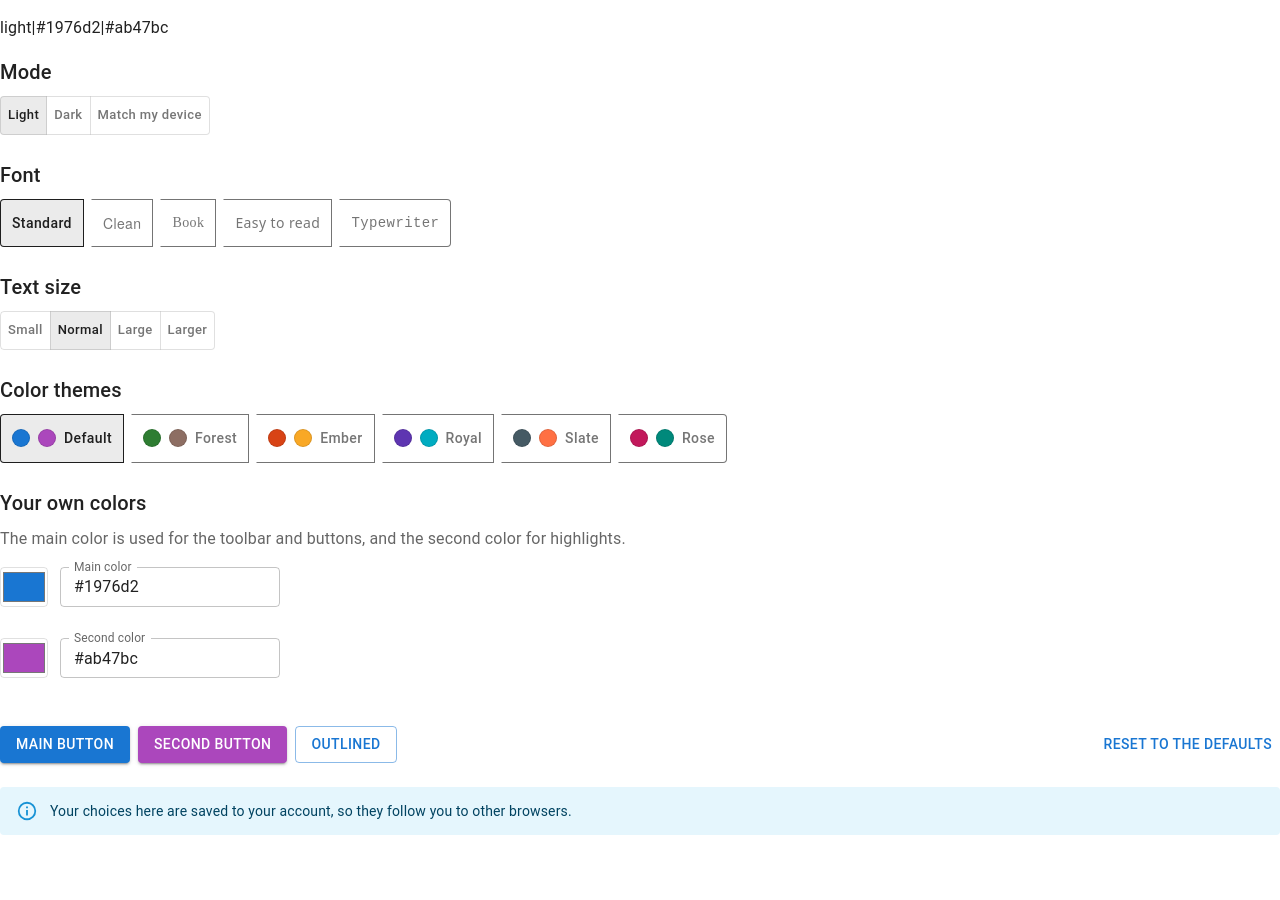
Scenario: saving to the account › says it's saved to the account, until it can't be
This screenshot has width=1280, height=900.
Expected: the text "Your choices here are saved to your account, so they follow you to other browsers." is shown, [50, 803, 572, 819]
Click the button "Dark". click: (68, 115)
box: [46, 96, 90, 135]
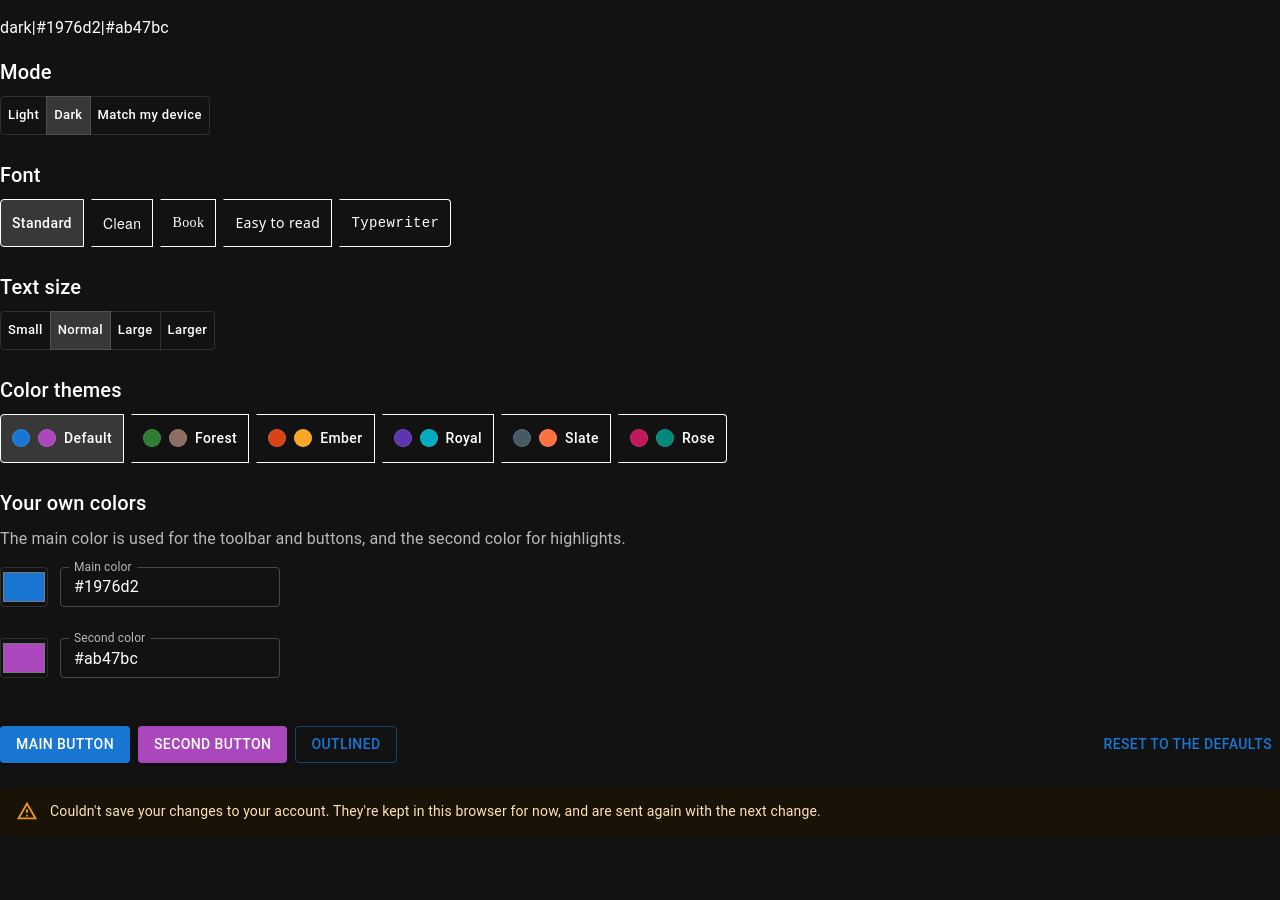
Result: the text "Couldn't save your changes to your account" is shown at [50, 803, 821, 819]
Result: the text with test id "probe" reads "dark|#1976d2|#ab47bc" at [0, 18, 32, 37]
